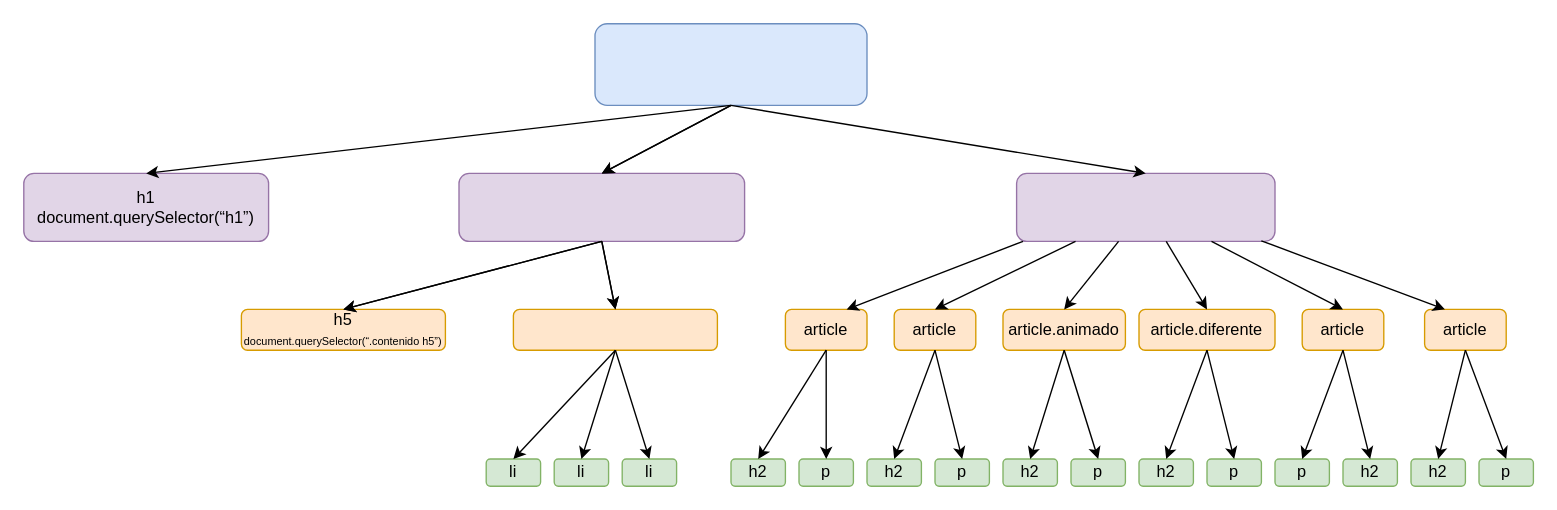
Some shapes in this 1557 by 510 pixel diagram are drawn without their labels. Each missing label, with the centre of its shape:
"body document.querySelector(“body”)" goes at pixel 730 63.
"div document.querySelector(“.contenido”)" goes at pixel 601 206.
"section document.querySelector(“section”)" goes at pixel 1145 206.
"ul document.querySelector(“.contenido ul”)" goes at pixel 614 329.
